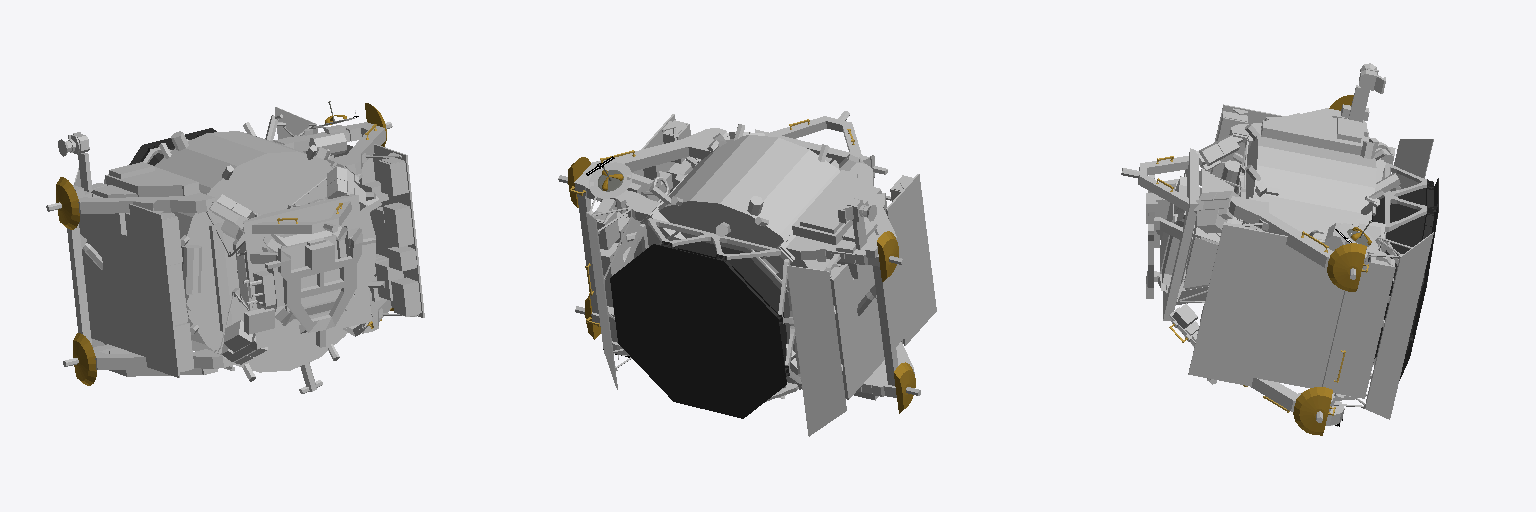
File: ams.obj
3 views of the same model, side by side, from view 1: azimuth 30°, elevation 25°; view 2: azimuth 150°, elevation 25°; view 3: azimuth 270°, elevation 25° (orthographic).
Parts seen in each view (by area): view 1: AMS2; view 2: AMS2; view 3: AMS2.
Part boxes in pixels (bbox=[...]): AMS2: bbox=[46, 101, 424, 393]; AMS2: bbox=[558, 111, 936, 436]; AMS2: bbox=[1121, 63, 1438, 435].
Bounding box in the file's own units: 4.77 × 3.2 × 3.82.